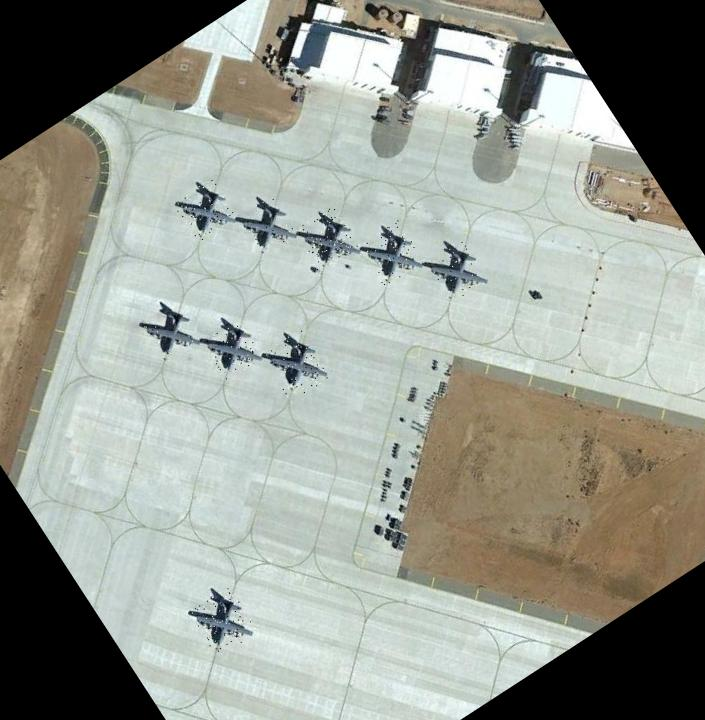A2: (260, 328, 332, 403), (188, 585, 260, 659), (356, 220, 425, 288), (292, 204, 360, 272), (200, 316, 266, 384), (171, 176, 237, 243), (424, 236, 489, 304), (236, 194, 300, 259), (135, 297, 198, 363)
